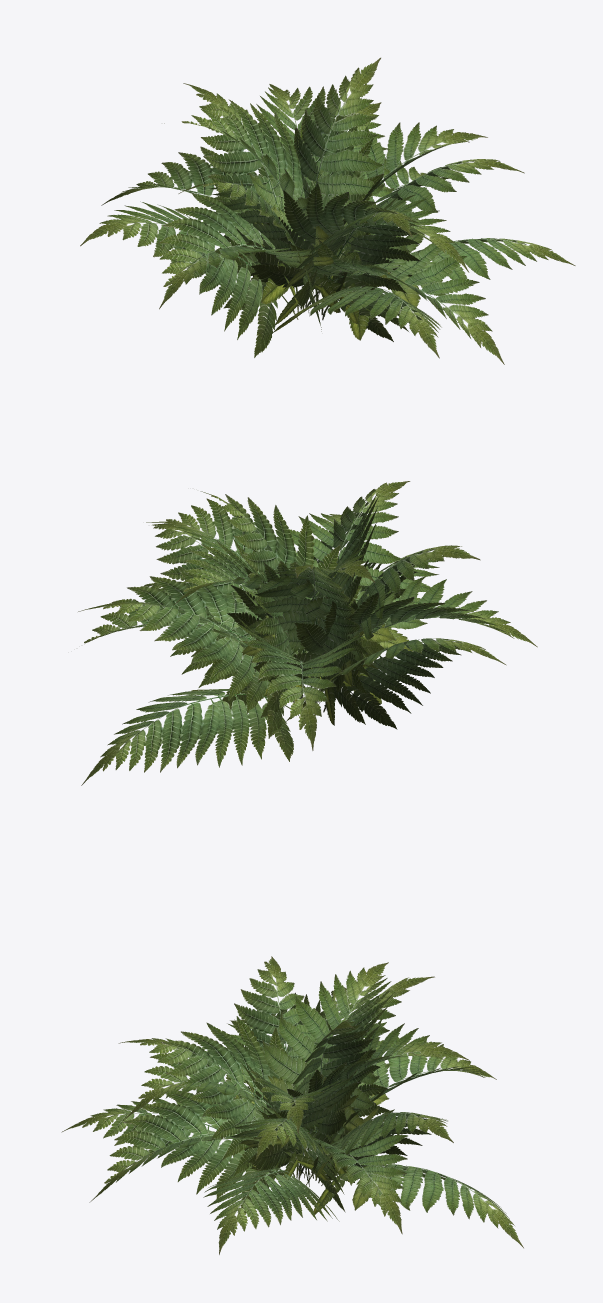
File: fern.glb
3 views of the same model, one above another, from view 1: azimuth 30°, elevation 25°; view 2: azimuth 150°, elevation 25°; view 3: azimuth 270°, elevation 25° (orthographic). The views are drawn at different scales.
Visible parts, largest first — view 1: SM_MZRa_Fern_B051_MI_MZRa_Fern_B051_0; view 2: SM_MZRa_Fern_B051_MI_MZRa_Fern_B051_0; view 3: SM_MZRa_Fern_B051_MI_MZRa_Fern_B051_0.
Boxes of the visible parts, <box> form: SM_MZRa_Fern_B051_MI_MZRa_Fern_B051_0: <box>80,57,575,364</box>; SM_MZRa_Fern_B051_MI_MZRa_Fern_B051_0: <box>78,481,537,785</box>; SM_MZRa_Fern_B051_MI_MZRa_Fern_B051_0: <box>61,956,523,1254</box>.
Size of the model in its own units: 2.76 by 1.52 by 2.78.
1 material, 1 textured.
